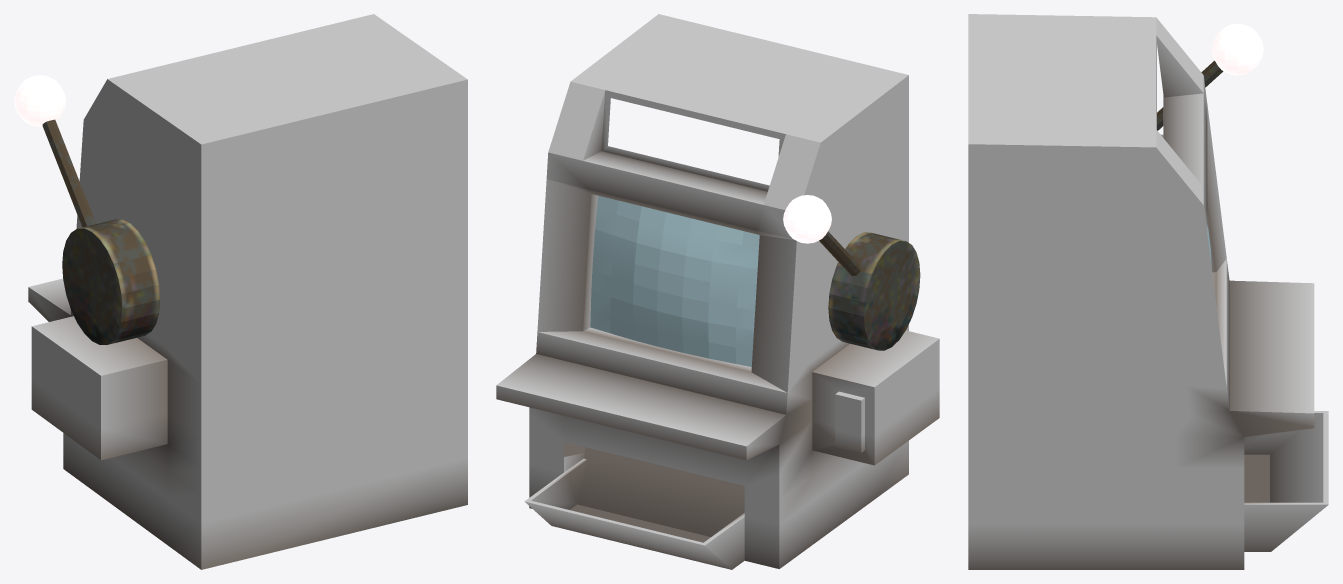
The picture shows the model from 3 angles, left to right: view 1: azimuth 30°, elevation 25°; view 2: azimuth 150°, elevation 25°; view 3: azimuth 270°, elevation 25°; orthographic projection. The views are drawn at different scales.
Visible parts, largest first — view 1: Mesh_Slotmachine, Cube_004; view 2: Mesh_Slotmachine, Mesh_SlotmachineScreen, Cube_004; view 3: Mesh_Slotmachine, Cube_004.
Part boxes in pixels (x1,y1,x2,y2): Mesh_Slotmachine: (28, 14, 467, 569); Cube_004: (14, 75, 160, 344); Mesh_Slotmachine: (496, 14, 939, 569); Mesh_SlotmachineScreen: (590, 195, 759, 366); Cube_004: (783, 195, 920, 350); Mesh_Slotmachine: (968, 14, 1328, 569); Cube_004: (1157, 23, 1263, 130).
Bounding box in the file's own units: 2.5 × 3.05 × 2.34.
Materials: 2 (1 with a texture image).
